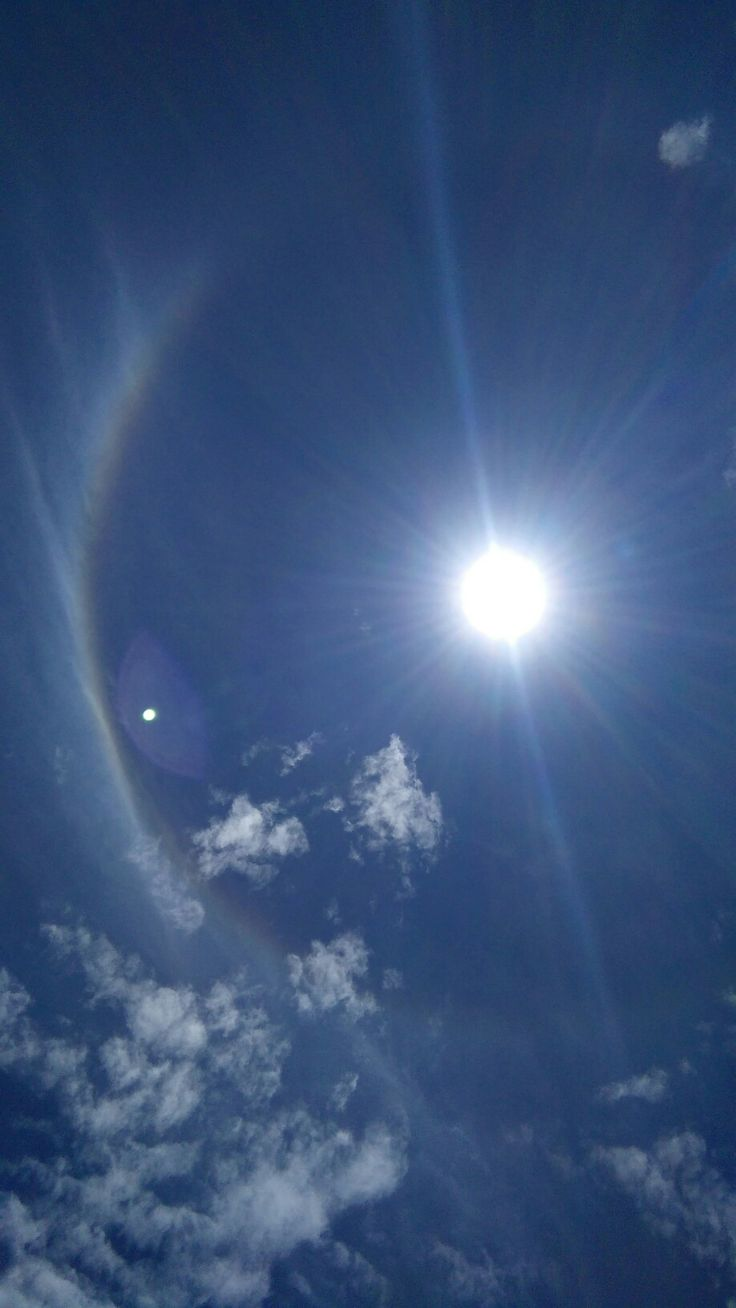sun: (437, 524, 575, 680)
